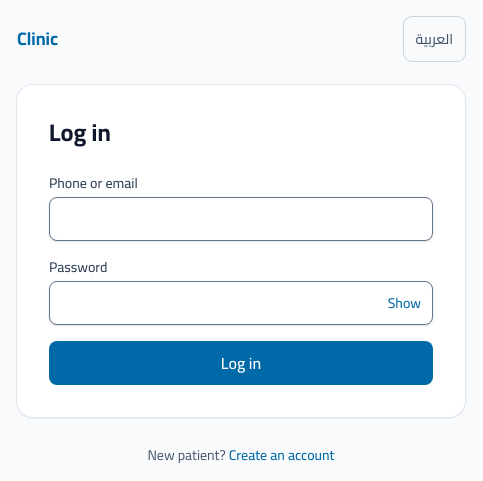
Test: Login page › shows and hides the password
Step 1. Type "secret-pass" into the password field labelled "Password" → (241, 303), box [49,281,433,325]
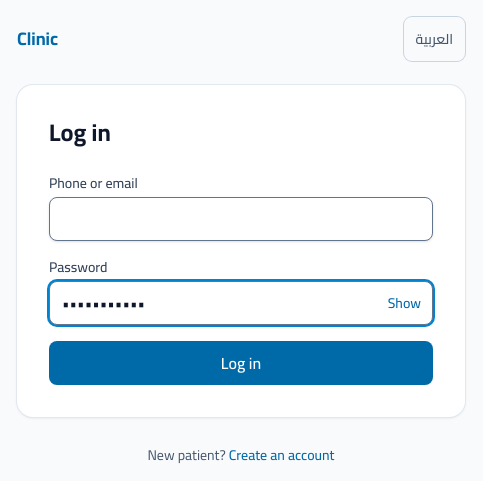
Step 2. Click the button with aria-label "Show Password" → click(404, 303), box [376,281,433,325]
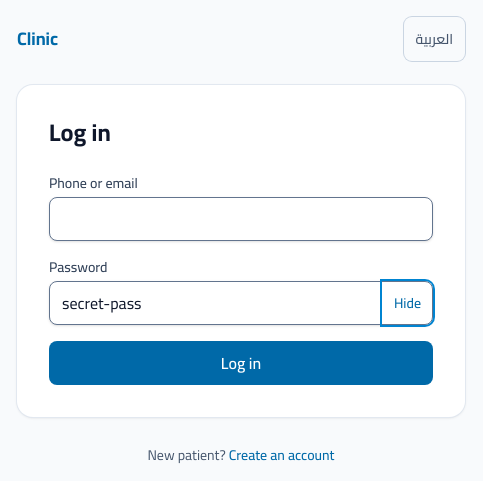
Result: the field labelled "Password" shows its text at [49,281,433,325]
Step 3. Click the button with aria-label "Hide Password" → click(407, 303), box [382,281,433,325]
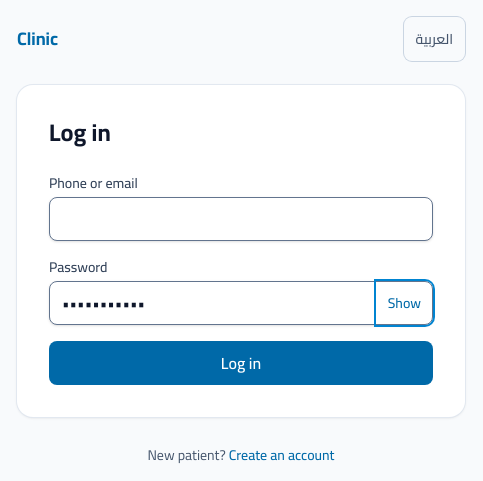
Result: the password field labelled "Password" hides its text at [49,281,433,325]
